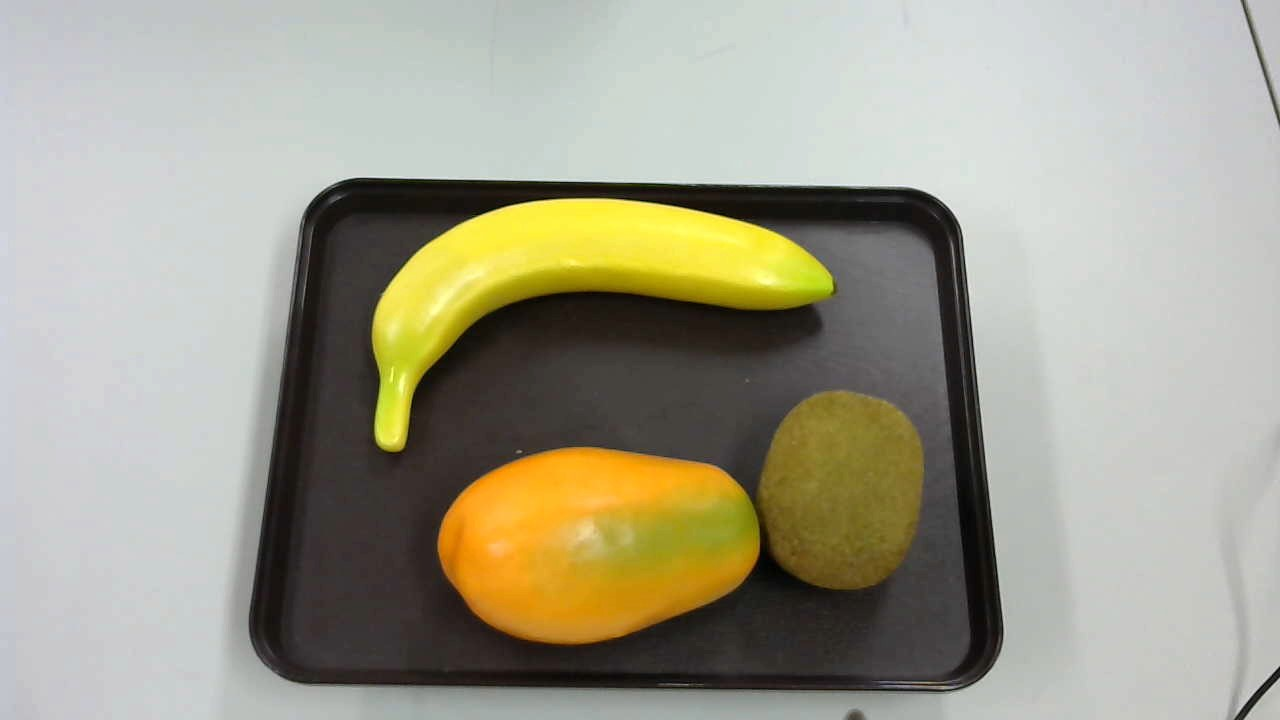banana: (370, 196, 837, 452)
kiwi fruit: (762, 387, 925, 596)
papya: (428, 445, 765, 652)
